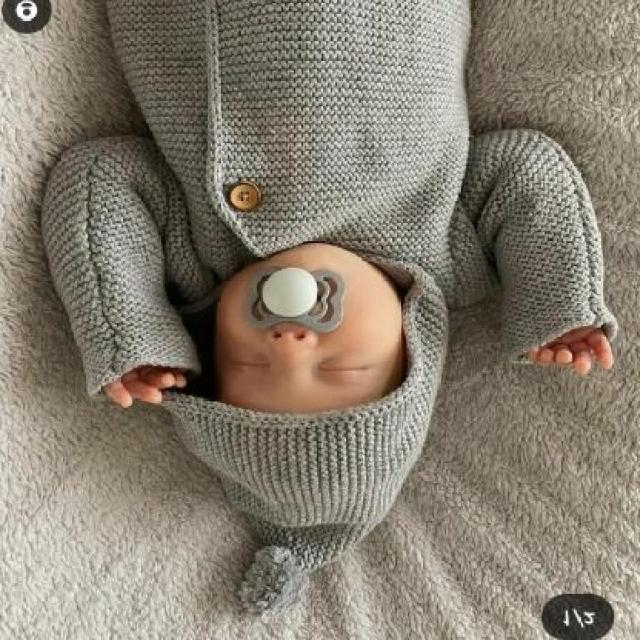baby: (37, 1, 612, 574)
